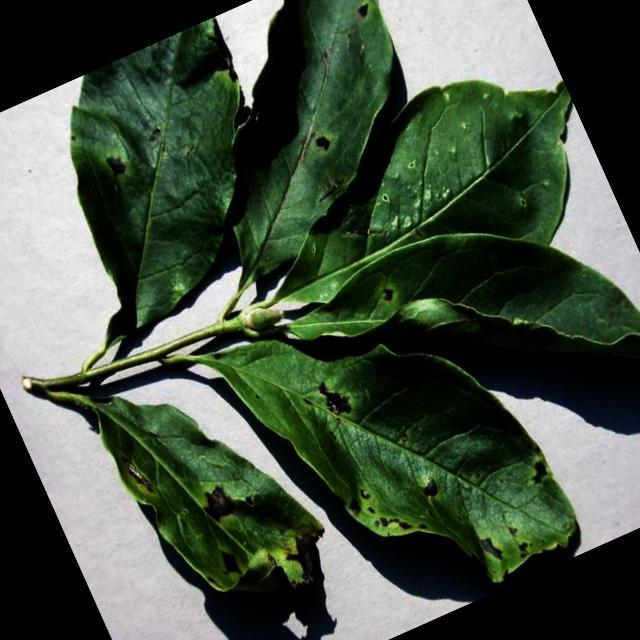Tomato bacterial spot leaf: (200, 234, 588, 640), (281, 165, 640, 511), (113, 0, 474, 312), (73, 338, 346, 640)
